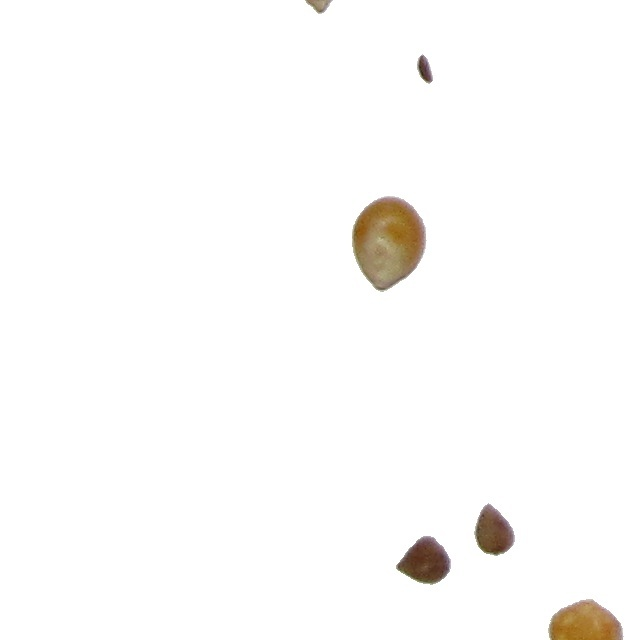buckwheat: (396, 535, 453, 583), (475, 501, 516, 554), (303, 1, 338, 18)
dill: (416, 52, 438, 86)
mais: (353, 197, 429, 294), (549, 598, 624, 640)
